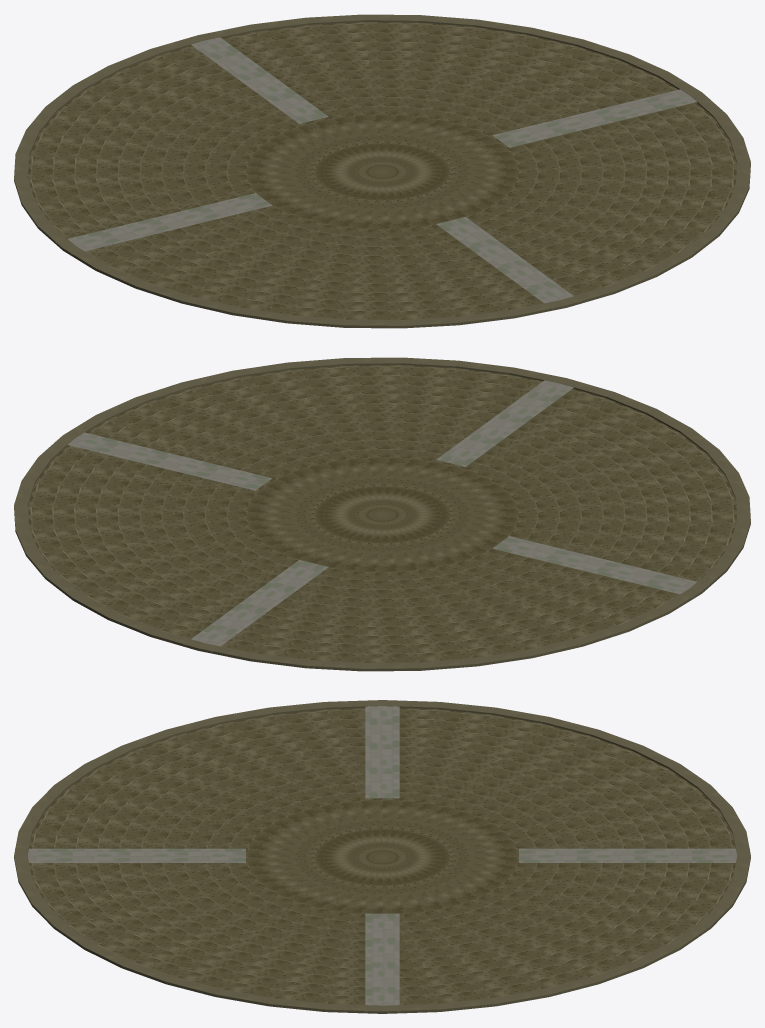
File: village_small_base.glb
3 renders of one model, top to bottom at view 1: azimuth 30°, elevation 25°; view 2: azimuth 150°, elevation 25°; view 3: azimuth 270°, elevation 25°, orthographic.
Parts seen in each view (by area): view 1: ae_forest_village_small_base; view 2: ae_forest_village_small_base; view 3: ae_forest_village_small_base.
Part boxes in pixels (<box>): ae_forest_village_small_base: <box>14,14,750,328</box>; ae_forest_village_small_base: <box>14,357,750,671</box>; ae_forest_village_small_base: <box>14,700,750,1013</box>.
Size of the model in its own units: 1.61 by 0.00608 by 1.61.
Materials: 1 (1 with a texture image).
